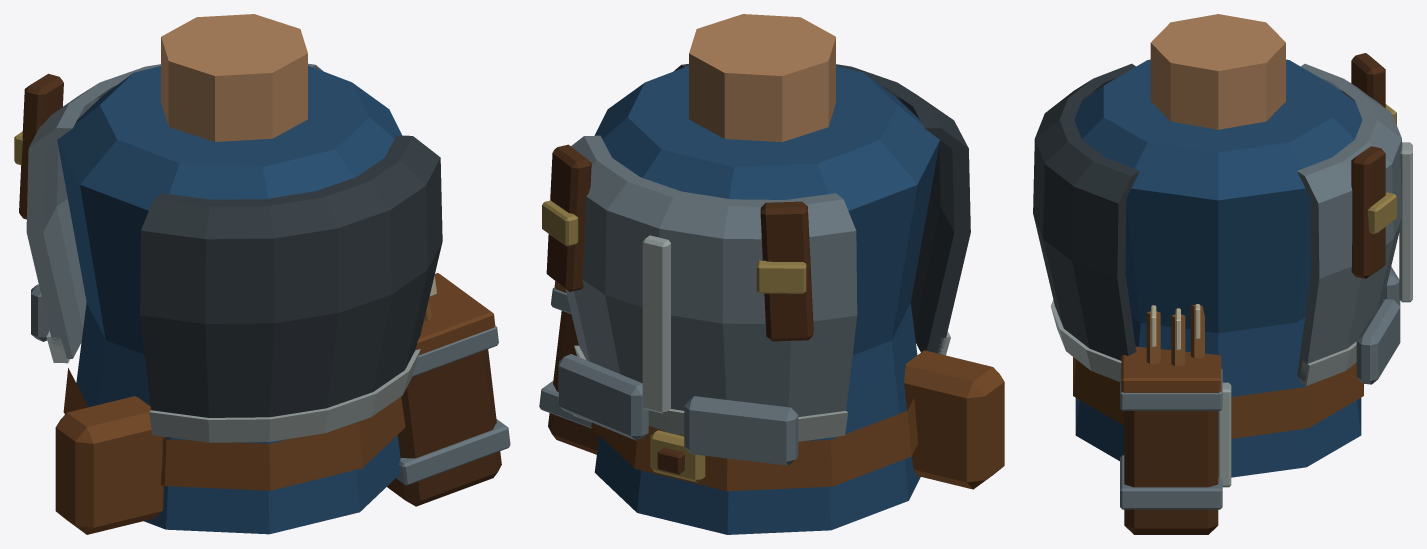
The model's file is Body.glb.
3 renders of one model, left to right at view 1: azimuth 30°, elevation 25°; view 2: azimuth 150°, elevation 25°; view 3: azimuth 270°, elevation 25°, orthographic. The views are drawn at different scales.
Visible parts, largest first — view 1: Sculpture; view 2: Sculpture; view 3: Sculpture.
Part boxes in pixels (x1,y1,x2,y2): Sculpture: [14, 14, 510, 534]; Sculpture: [539, 14, 1004, 534]; Sculpture: [1033, 14, 1412, 534].
Size of the model in its own units: 0.7376 by 0.7671 by 0.6455.
